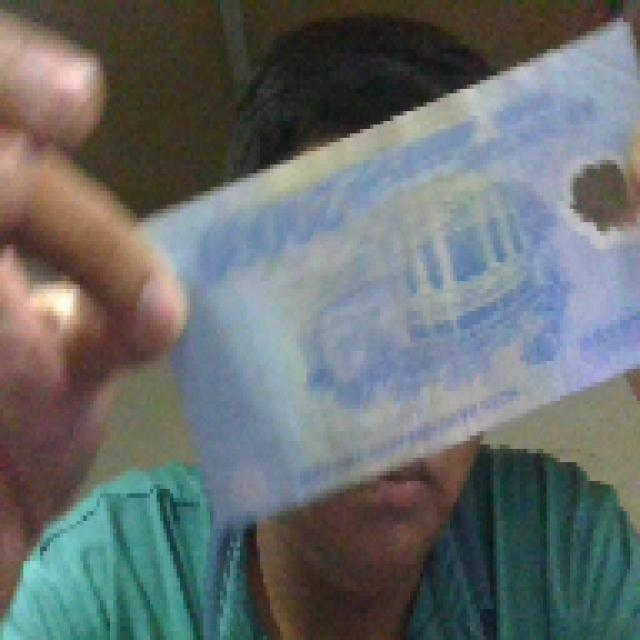20 000 VND: (130, 0, 636, 533)
